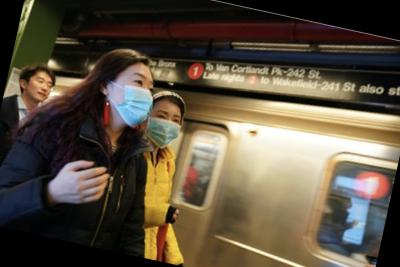with_mask: (105, 67, 160, 132), (142, 107, 186, 155)
without_mask: (26, 73, 55, 103)
